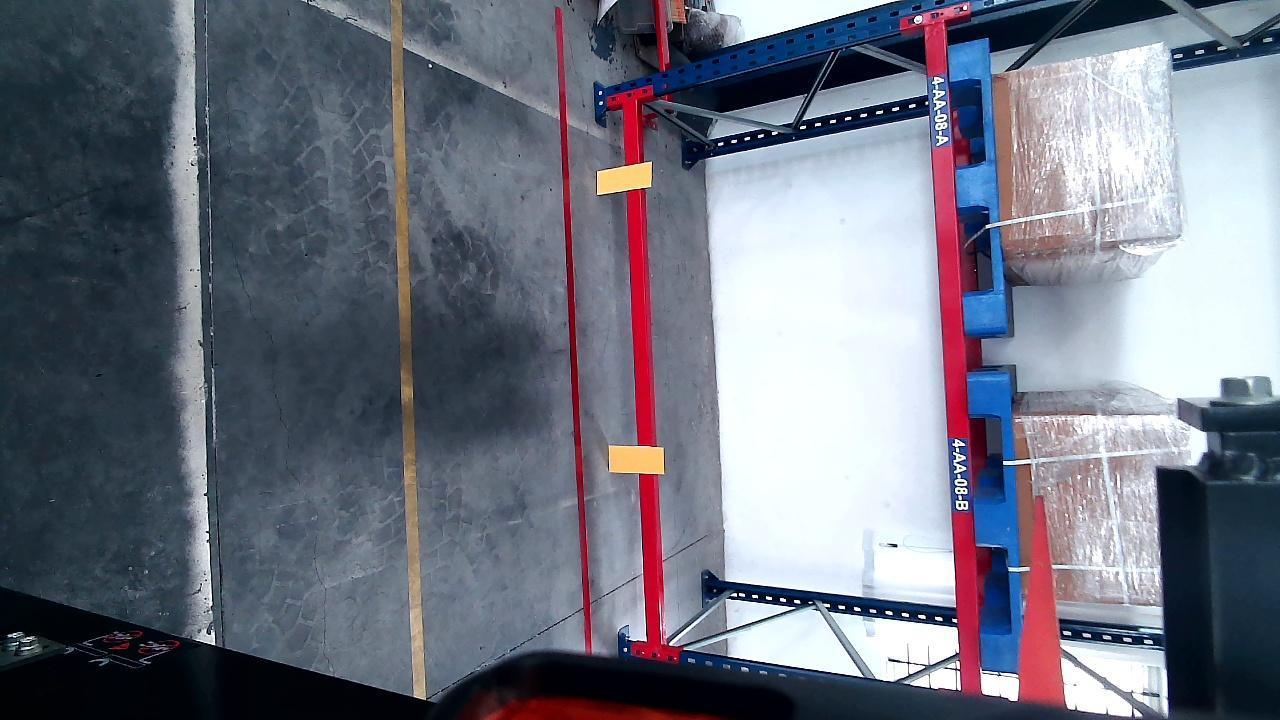h_rack: (927, 24, 980, 682), (624, 93, 661, 639)
orange_strip: (596, 163, 652, 193), (608, 444, 663, 474)
red_line: (556, 20, 593, 649)
small_pallet: (968, 376, 1027, 675), (950, 37, 1006, 338)
yellow_line: (390, 6, 426, 690)
